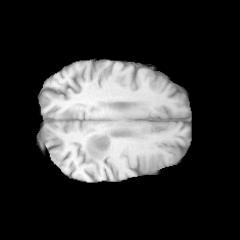glioma: (86, 135, 111, 159)
